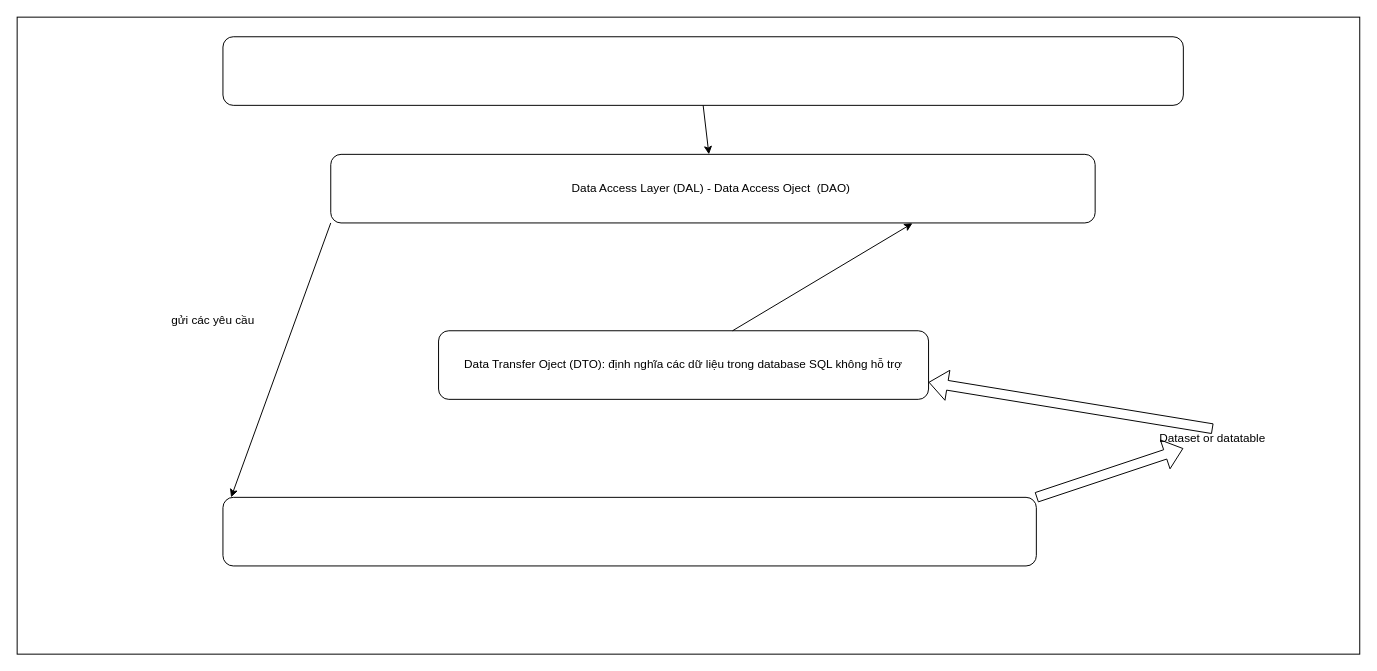
Some shapes in this 1377 by 671 pixel diagram are drawn without their labels. Each missing label, with the centre of its shape:
DataBase: point 629,531
GUI (VIEW): các tương tác trực tiếp với người dùng: point 702,70
